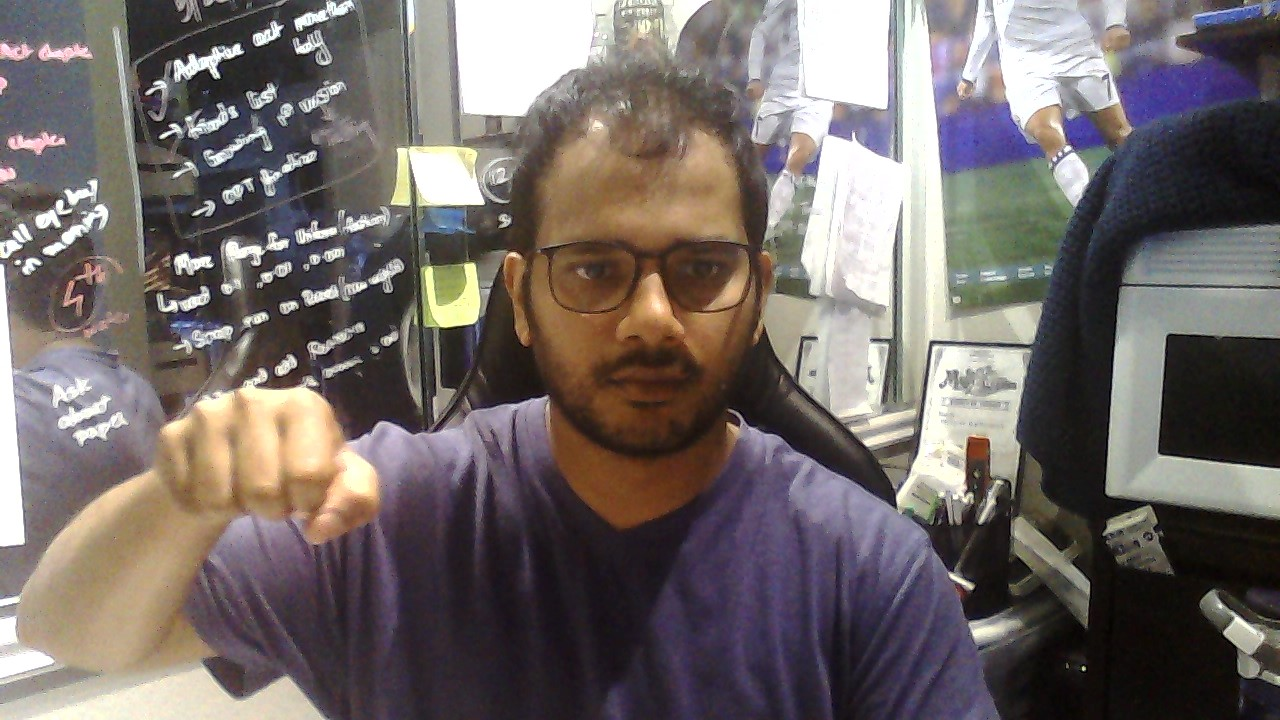Yes: (158, 388, 380, 546)
